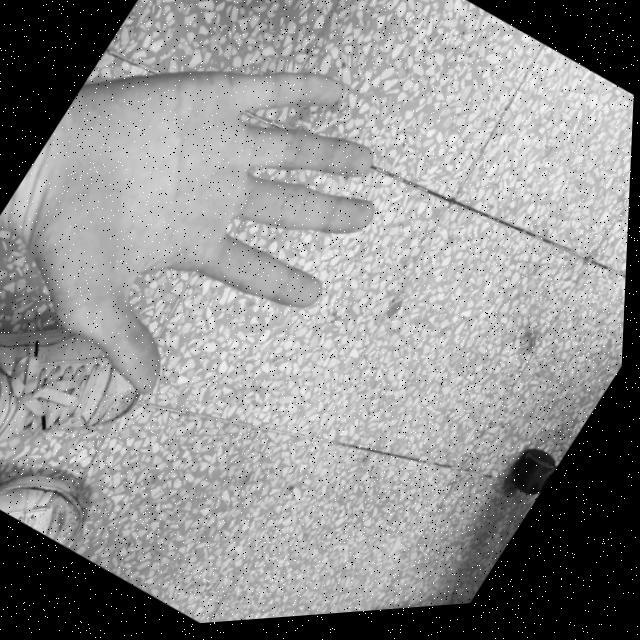no-gloves: (0, 0, 443, 469)
